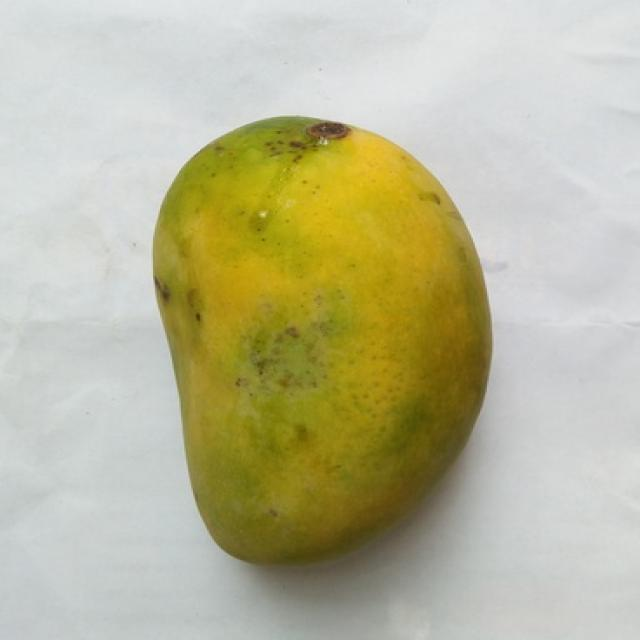Mango: (155, 117, 490, 562)
